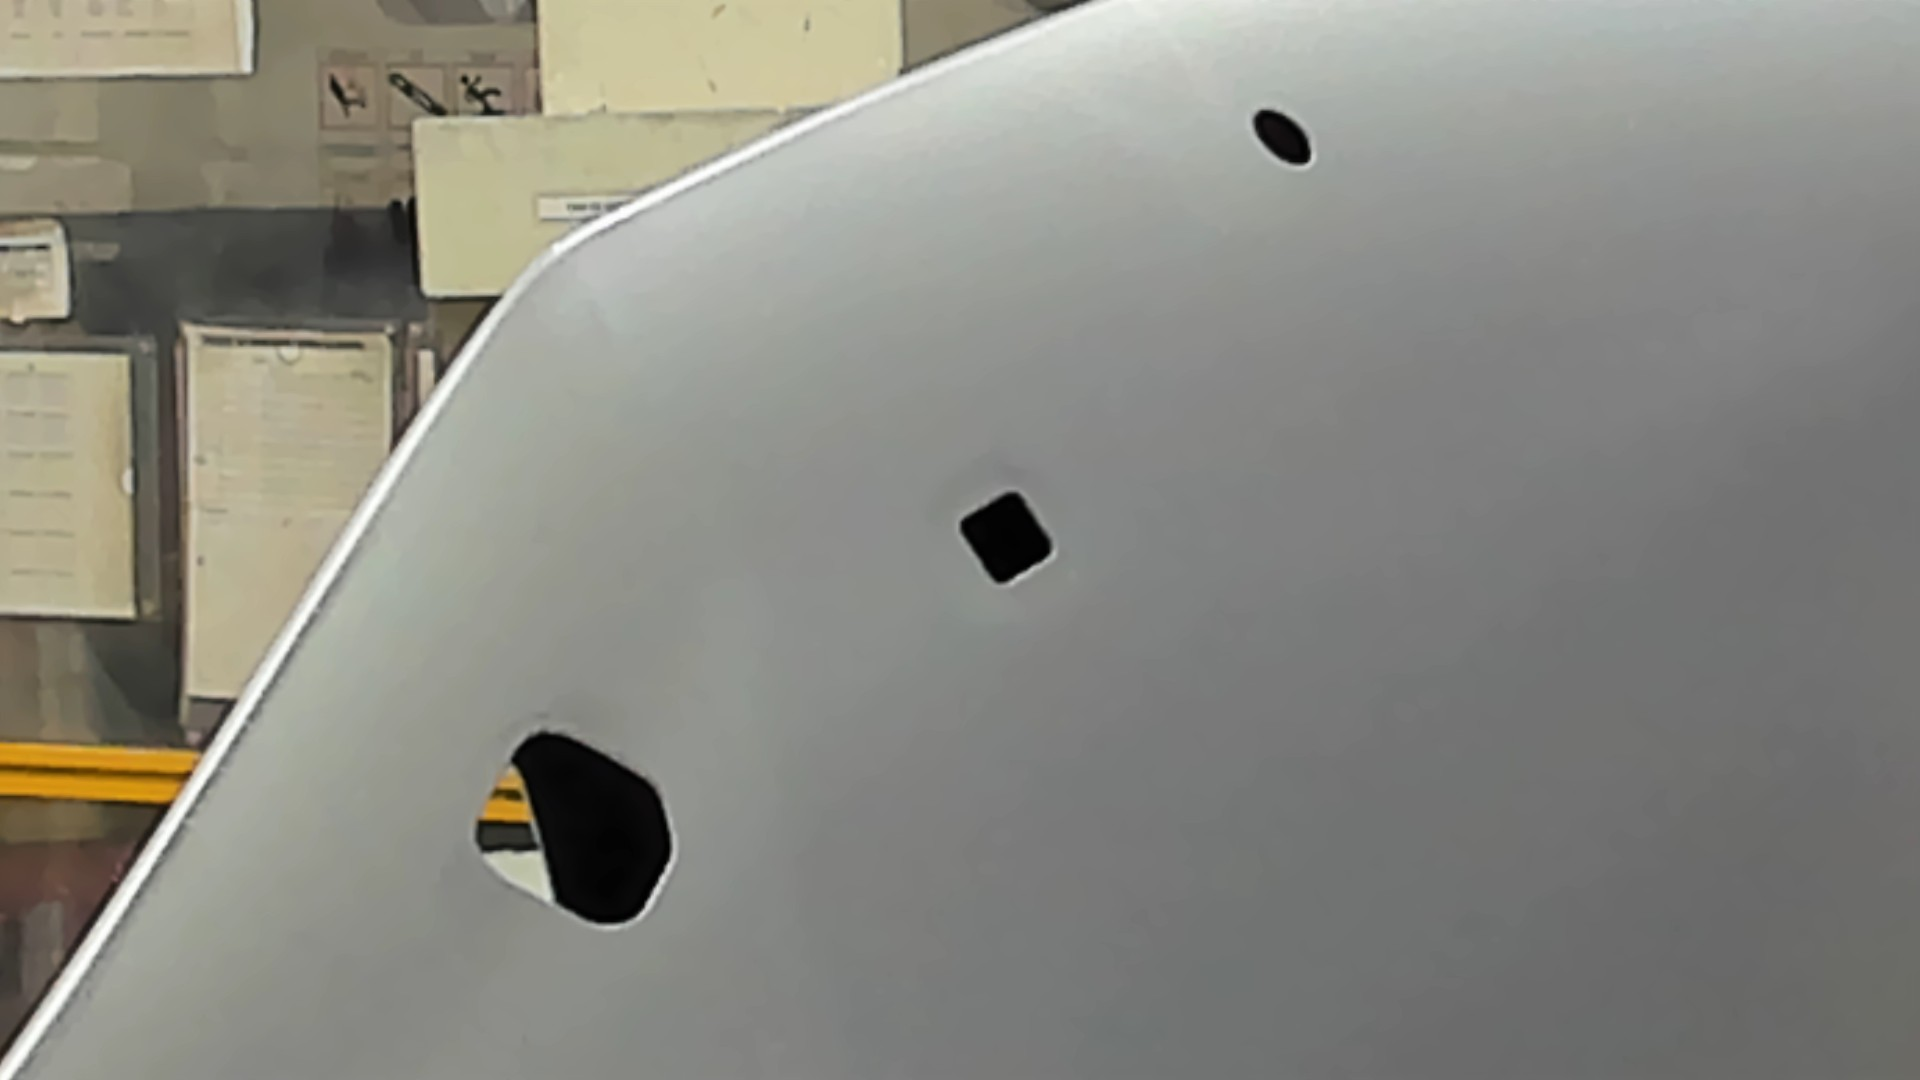chico: (1247, 103, 1315, 169)
grande: (471, 727, 678, 934)
mediano: (956, 488, 1058, 587)
